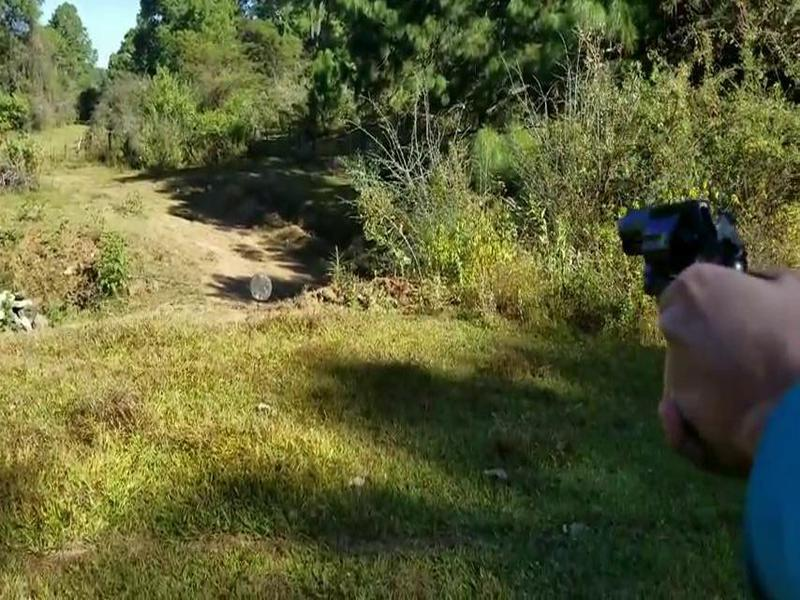Revolver: (607, 174, 764, 340)
